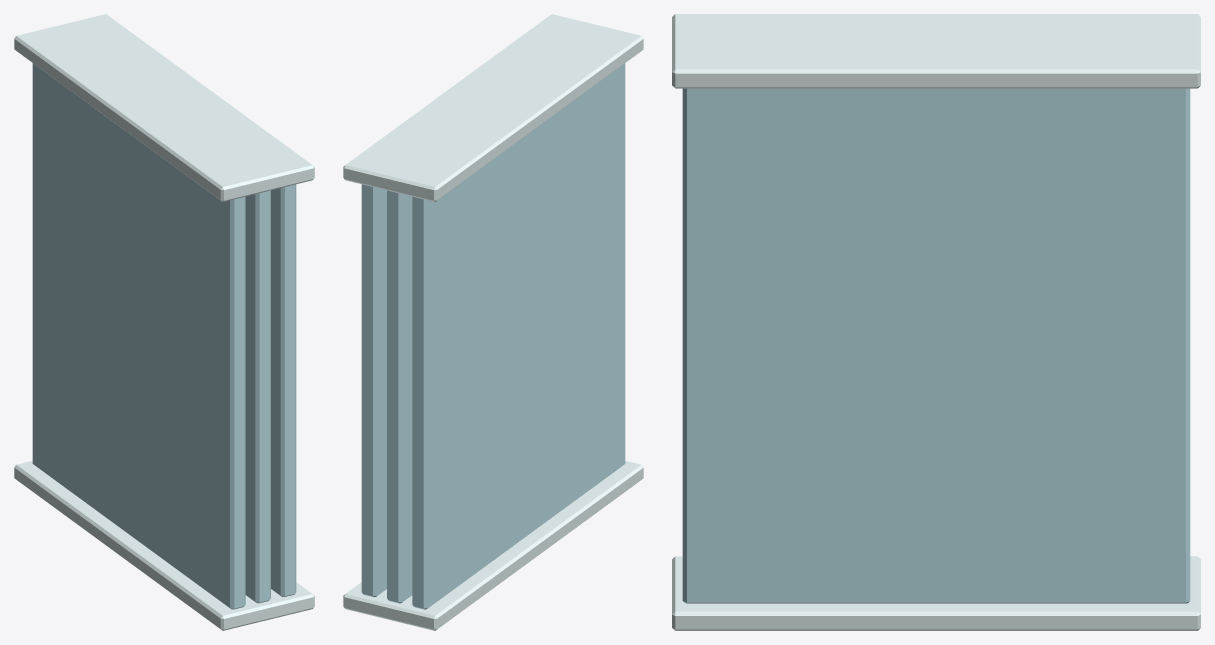
Rendered from FTF_Product_GlassPanes.glb.
3 views of the same model, side by side, from view 1: azimuth 30°, elevation 25°; view 2: azimuth 150°, elevation 25°; view 3: azimuth 270°, elevation 25° (orthographic). The views are drawn at different scales.
Parts seen in each view (by area): view 1: GlassPane_1, GlassEdgeTop, GlassPane_3, GlassPane_2, GlassEdgeBottom; view 2: GlassPane_1, GlassEdgeTop, GlassPane_3, GlassPane_2, GlassEdgeBottom; view 3: GlassPane_3, GlassEdgeTop, GlassEdgeBottom.
Boxes of the visible parts, x1,y1,x2,y2 form: GlassPane_1: (32, 63, 245, 609); GlassEdgeTop: (14, 14, 314, 201); GlassPane_3: (271, 184, 296, 596); GlassPane_2: (245, 190, 270, 603); GlassEdgeBottom: (14, 461, 314, 630); GlassPane_1: (412, 63, 625, 609); GlassEdgeTop: (343, 14, 643, 201); GlassPane_3: (361, 184, 386, 596); GlassPane_2: (387, 190, 412, 603); GlassEdgeBottom: (343, 461, 643, 630); GlassPane_3: (682, 88, 1190, 603); GlassEdgeTop: (672, 14, 1200, 88); GlassEdgeBottom: (672, 556, 1200, 630).
Size of the model in its own units: 0.13 by 0.586 by 0.5.
